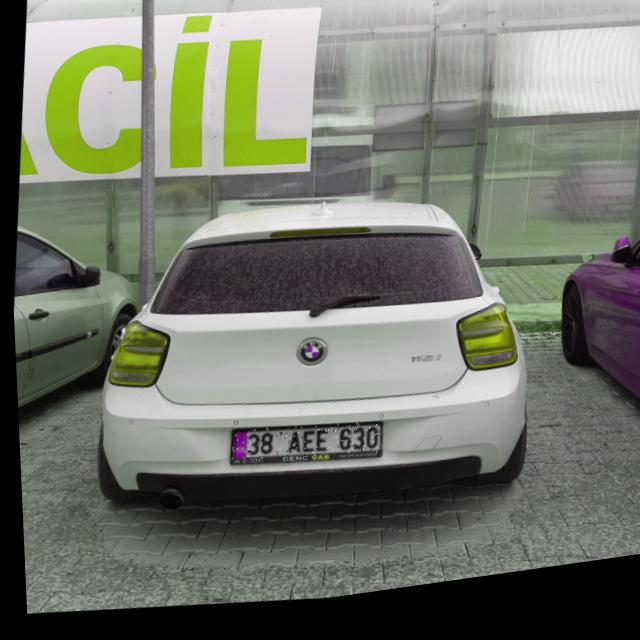license_plate: (226, 419, 379, 479)
